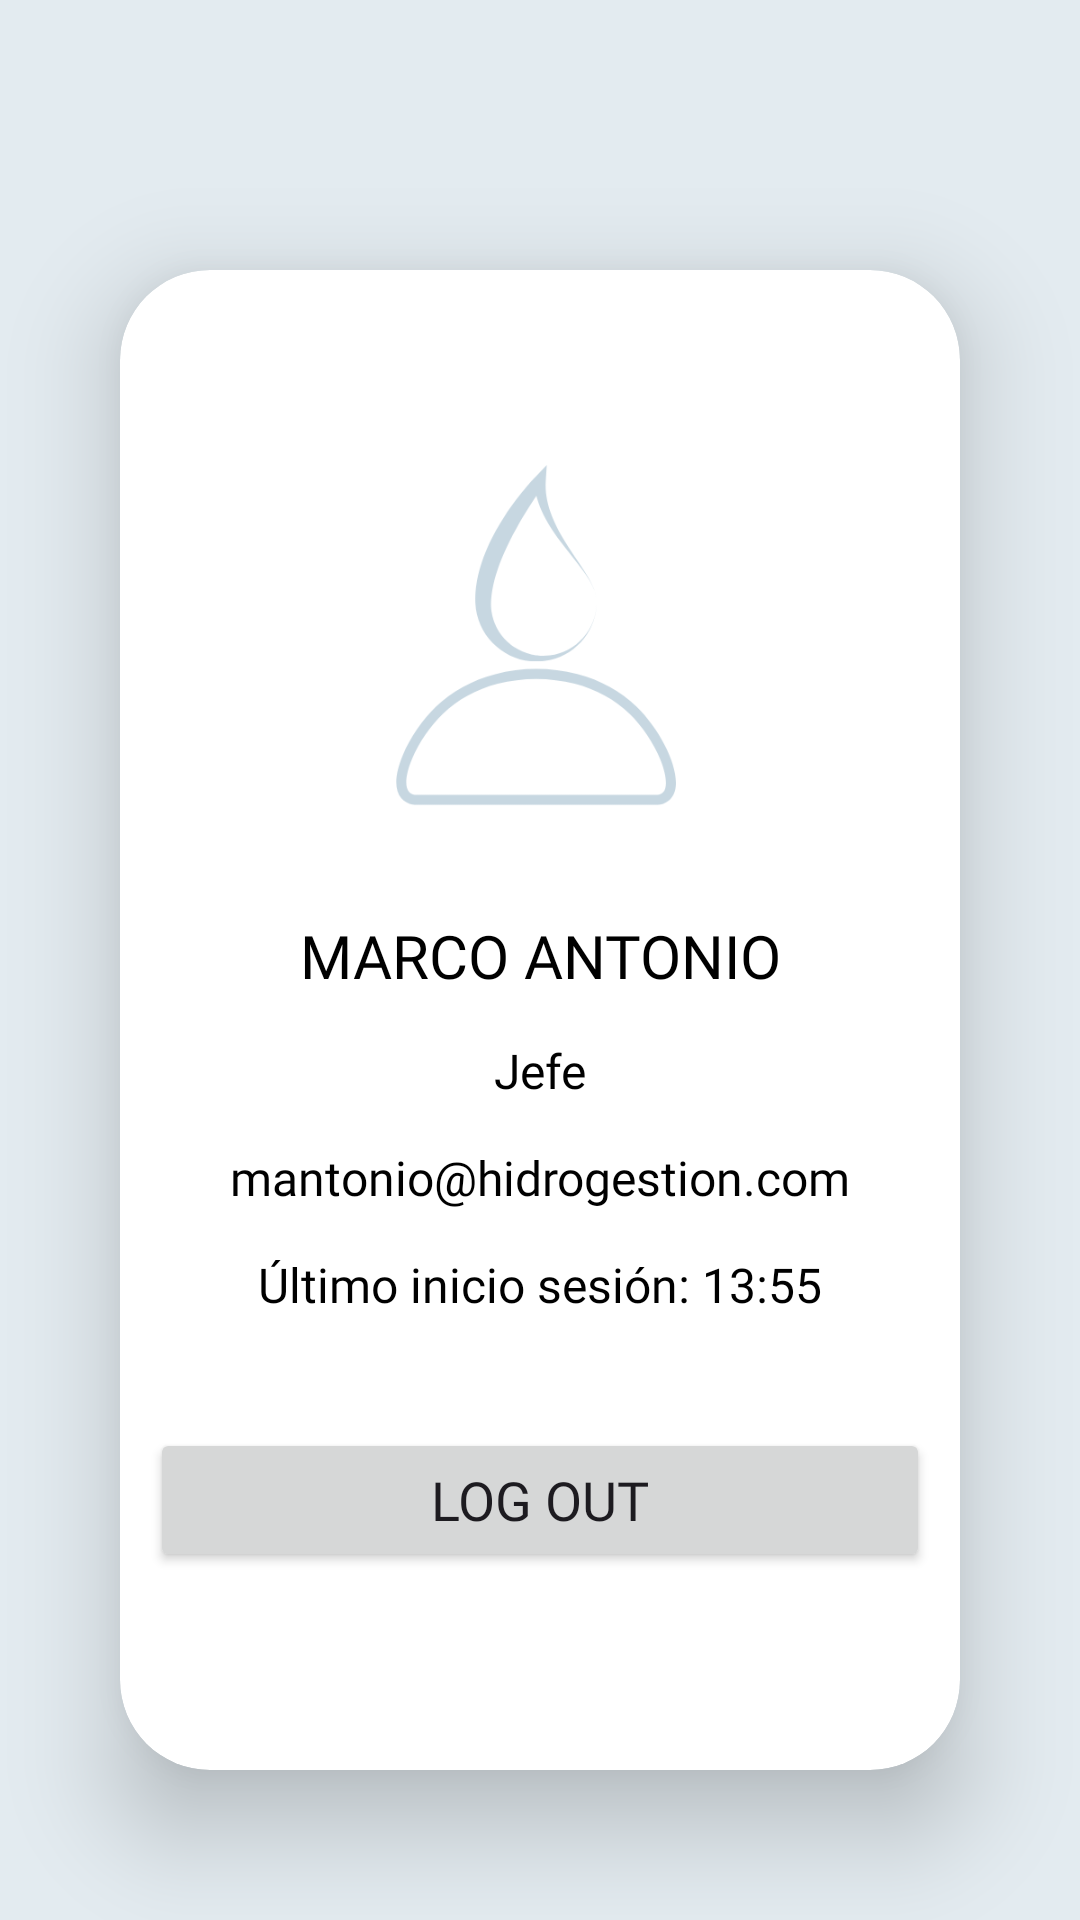

Screen size 1080px x 1920px. Icon name, then its box in pixels as (x1, y1, x2, y2):
worker: (396, 466, 676, 805)
